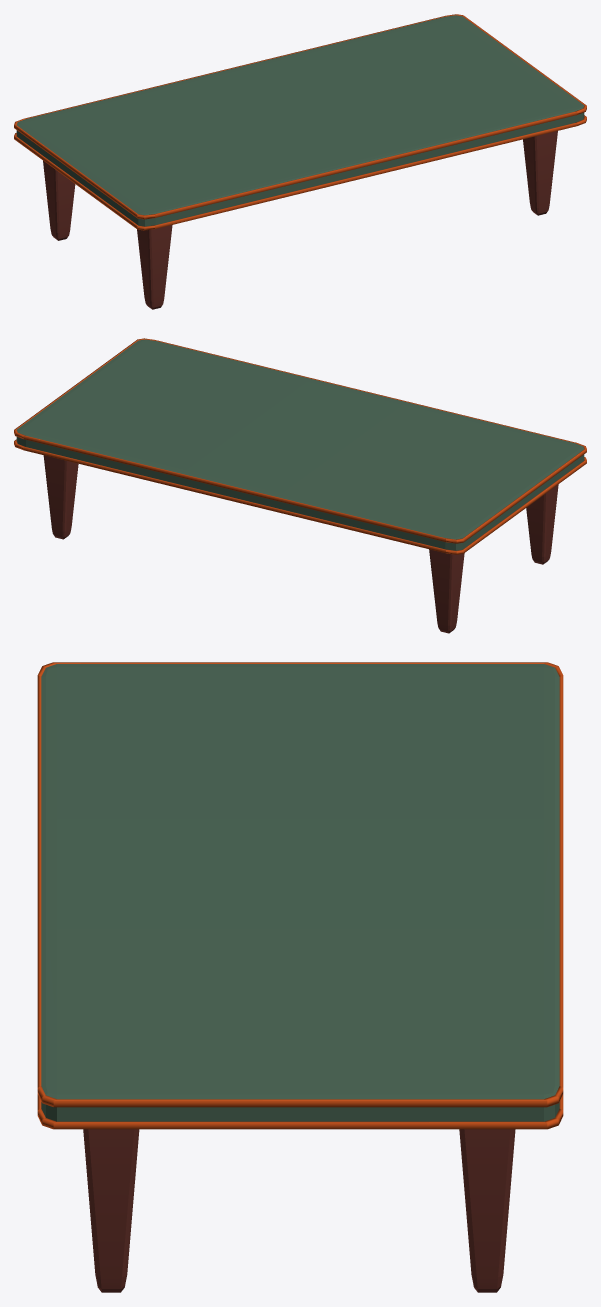
Rendered from table_diningroom.fbx.
3 views of the same model, one above another, from view 1: azimuth 30°, elevation 25°; view 2: azimuth 150°, elevation 25°; view 3: azimuth 270°, elevation 25° (orthographic). The views are drawn at different scales.
Visible parts, largest first — view 1: Cube.001, Cube.038, Cube.003; view 2: Cube.001, Cube.038, Cube.003; view 3: Cube.001, Cube.038, Cube.003.
Boxes of the visible parts, x1,y1,x2,y2 form: Cube.001: [16, 15, 584, 226]; Cube.038: [14, 14, 586, 230]; Cube.003: [43, 131, 557, 309]; Cube.001: [16, 339, 584, 550]; Cube.038: [14, 338, 586, 554]; Cube.003: [43, 455, 558, 633]; Cube.001: [41, 664, 559, 1121]; Cube.038: [37, 662, 563, 1129]; Cube.003: [83, 1129, 515, 1292].
Bounding box in the file's own units: 268 × 62.86 × 136.
